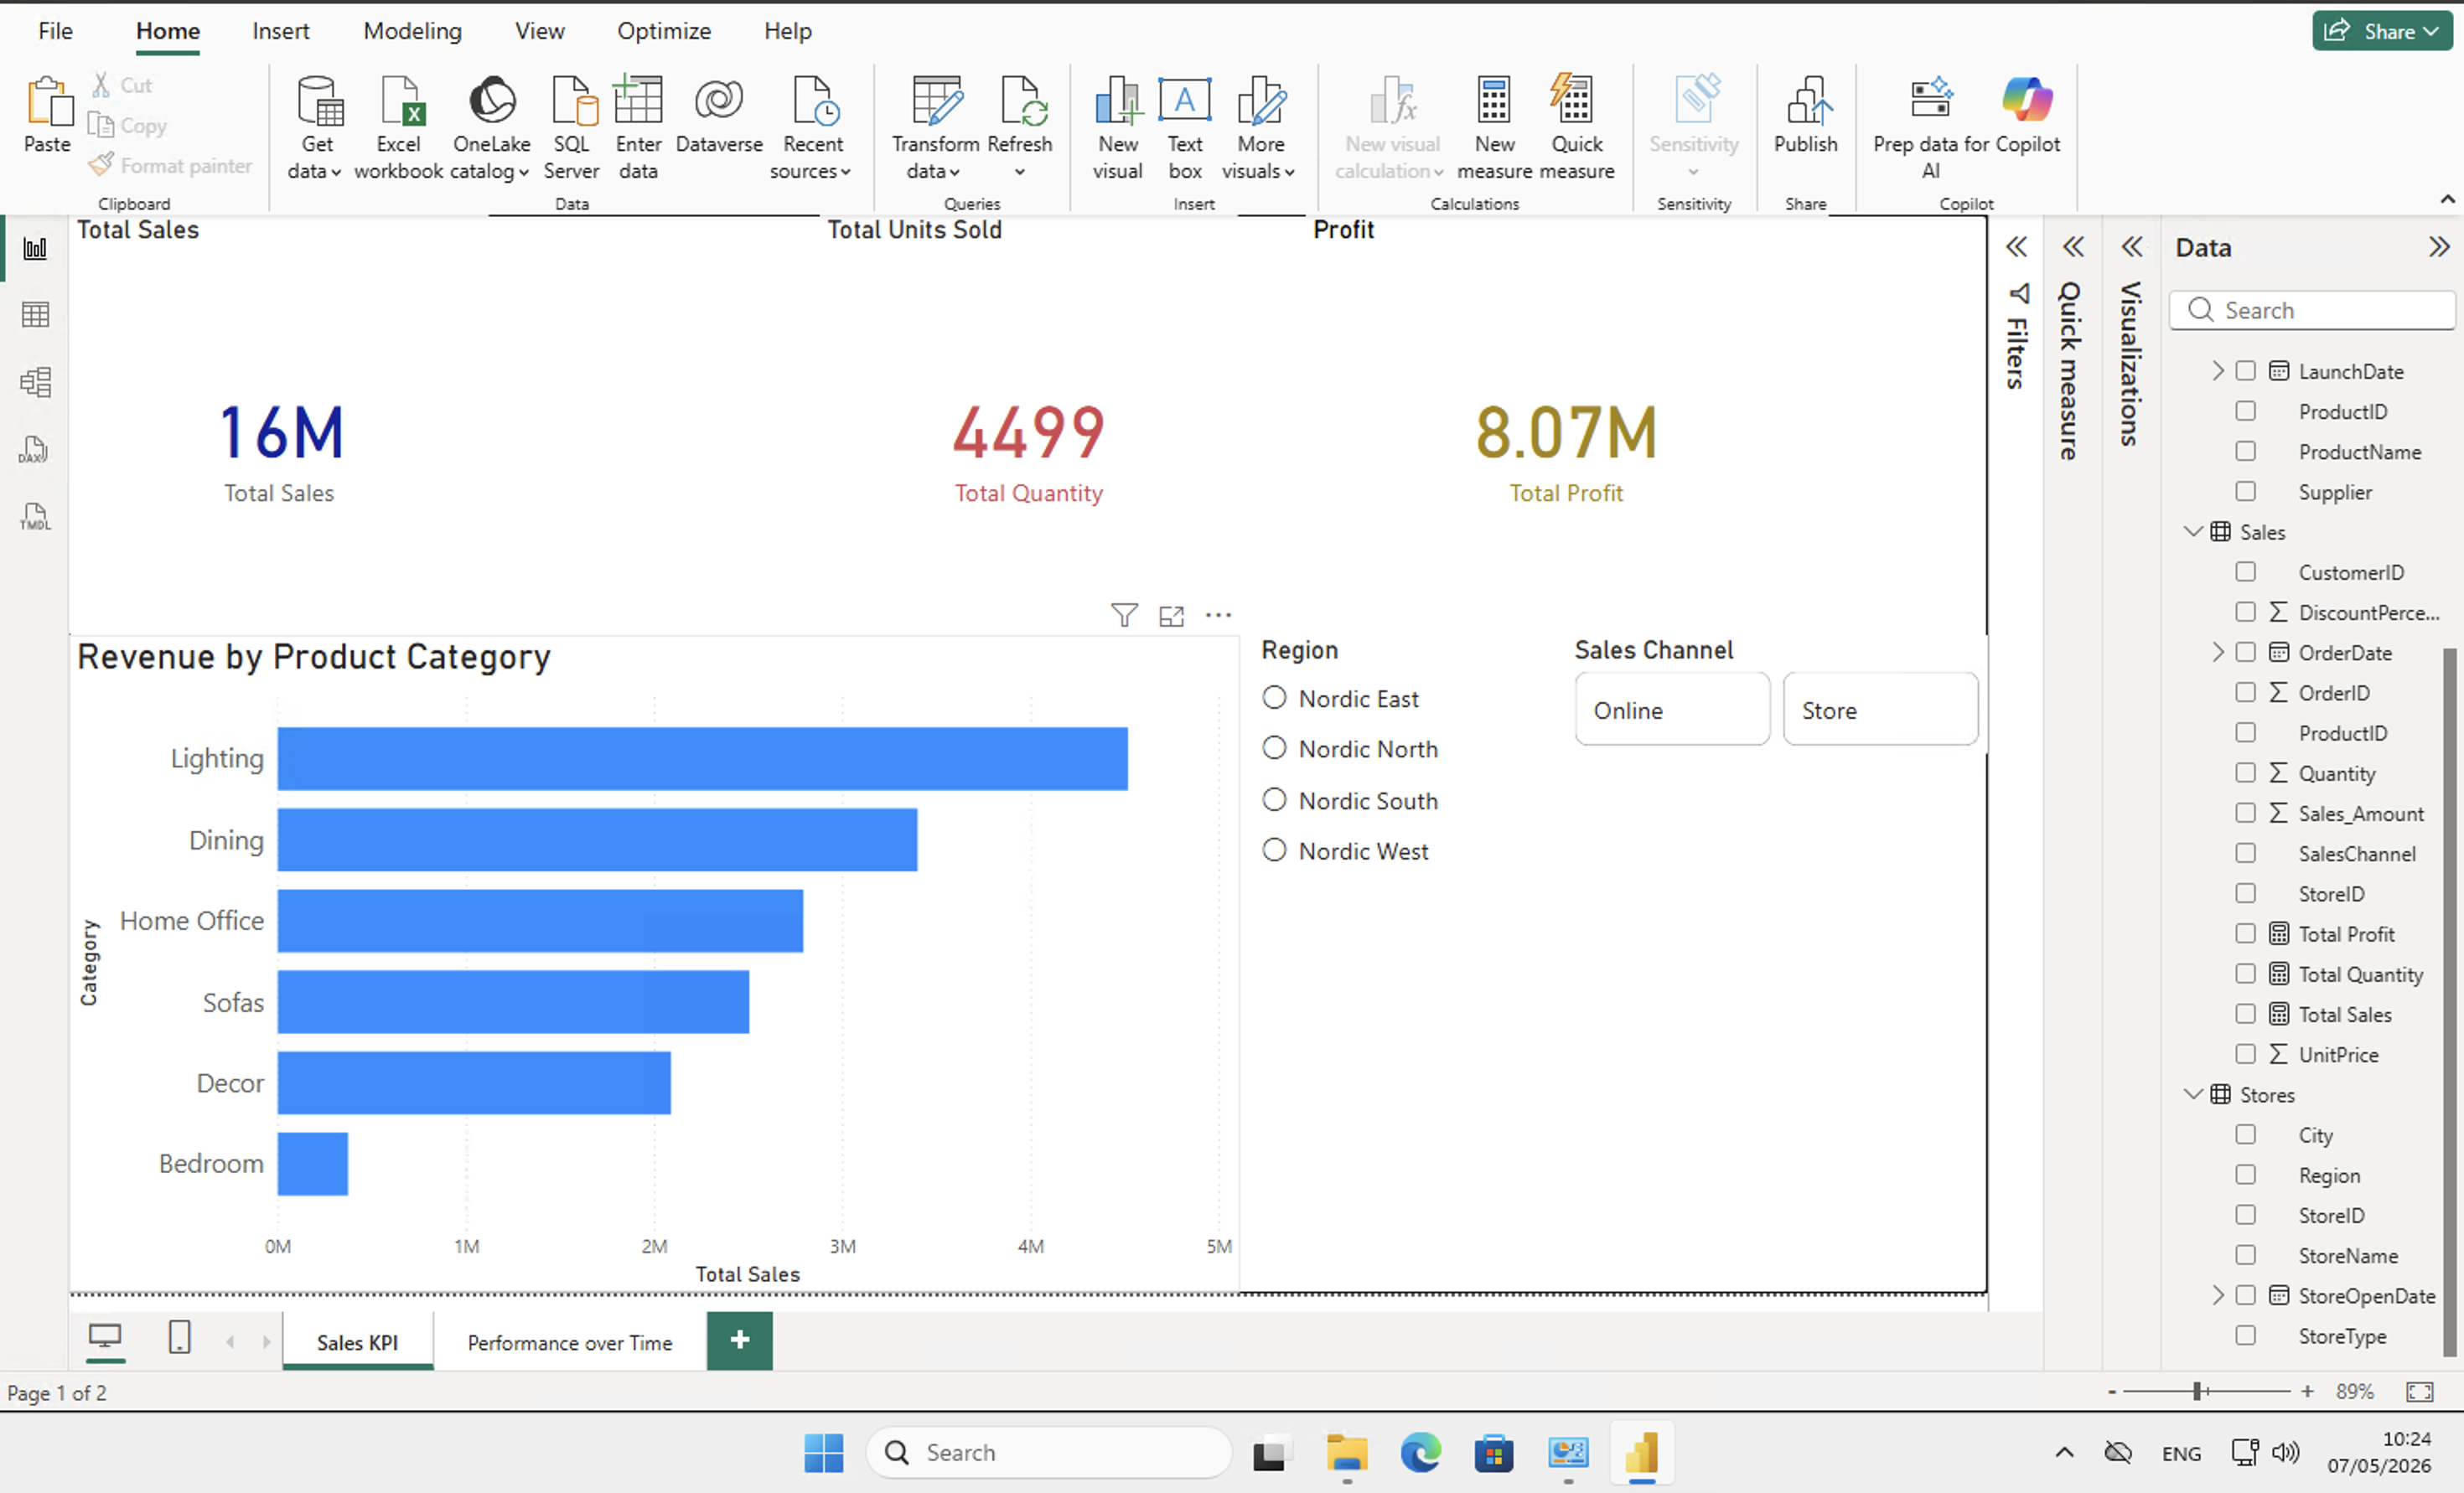

What the dashboard file says about the page in this screenshot:
{"tool":"powerbi","page":{"name":"Sales KPI","canvas":[1280,720],"ordinal":0},"visuals":[{"type":"card","title":"Total Units Sold","fields":{"Values":["Sales.Total Quantity"]},"box":[501,0,279.3,280.6],"z":0},{"type":"card","title":"Profit","fields":{"Values":["Sales.Total Profit"]},"box":[825.1,0,348.5,280.6],"z":1000},{"type":"card","title":"Total Sales","fields":{"Values":["Sales.Total Sales"]},"box":[0,0,280.3,280.3],"z":2000},{"type":"clusteredBarChart","title":"Revenue by Product Category","fields":{"Category":["Products.Category"],"Y":["Sales.Total Sales"]},"box":[0,280.3,780.9,439],"z":3000},{"type":"listSlicer","fields":{"Values":["Stores.Region"]},"box":[790.6,280.6,171.7,308.8],"z":4000},{"type":"advancedSlicerVisual","title":"Sales Channel","fields":{"Values":["Sales.SalesChannel"]},"box":[999.4,280.6,280.6,79.4],"z":5000}]}

Visuals, with their boxes on the page's 1280x720 design canvas (x1, y1, x2, y2). These are canvas units, not pixel positions in the 2464x1493 screenshot, which may show the page scaled, cropped or inside an application window:
"Total Units Sold" card: l=501, t=0, r=780, b=281
"Profit" card: l=825, t=0, r=1174, b=281
"Total Sales" card: l=0, t=0, r=280, b=280
"Revenue by Product Category" clusteredBarChart: l=0, t=280, r=781, b=719
listSlicer - Stores.Region: l=791, t=281, r=962, b=589
"Sales Channel" advancedSlicerVisual: l=999, t=281, r=1280, b=360
